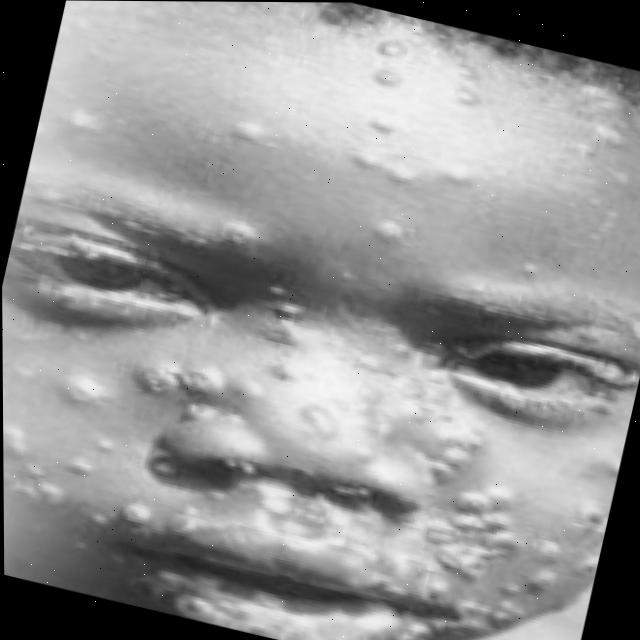Eczema: (32, 265, 634, 640), (82, 1, 540, 230)
